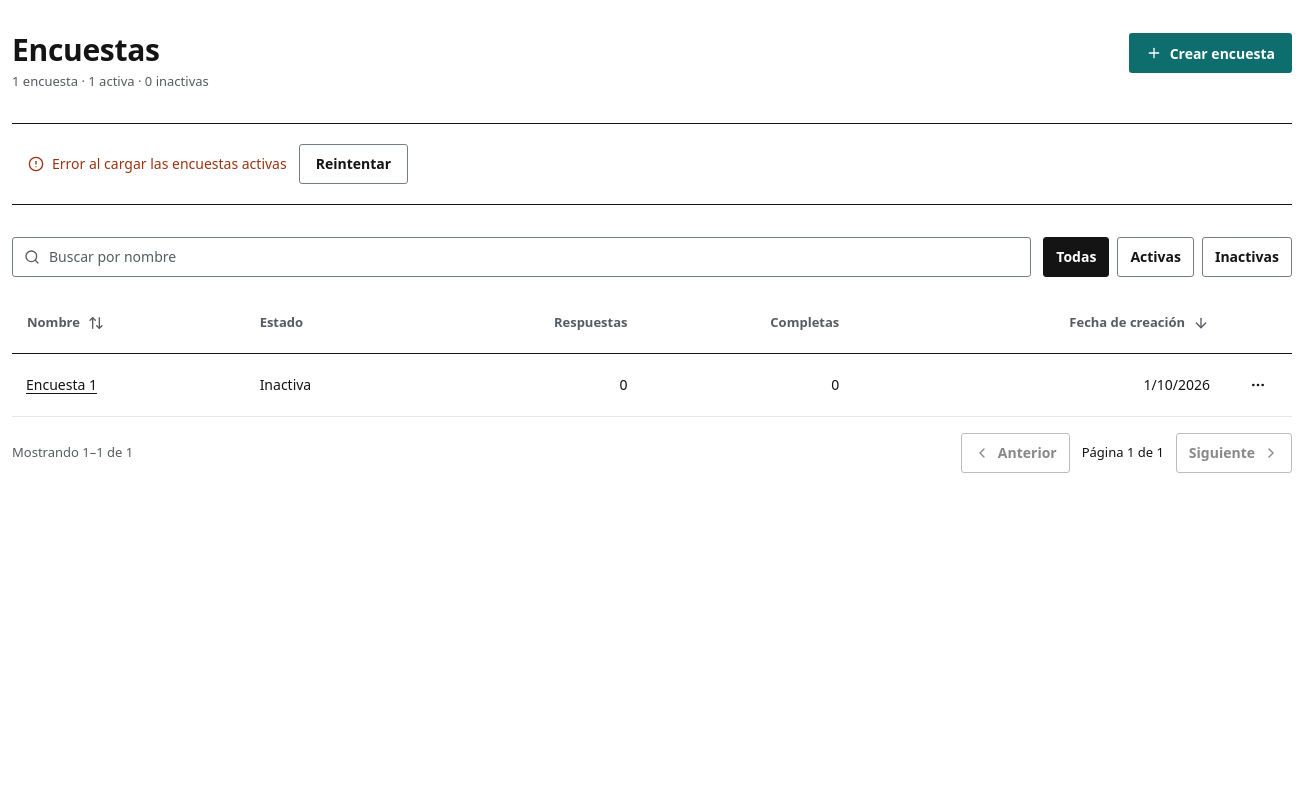
it: Active surveys small multiples on the dashboard (REQ-FE-032) › AC-FE-032-7: on error the row shows the error line with Reintentar and the list still renders
The width and height of the screenshot is (1304, 800).
Check: the link "Encuesta 1" is shown, box [26,375,97,394]
Click the button "Reintentar". click: (353, 164)
box: [299,144,408,184]
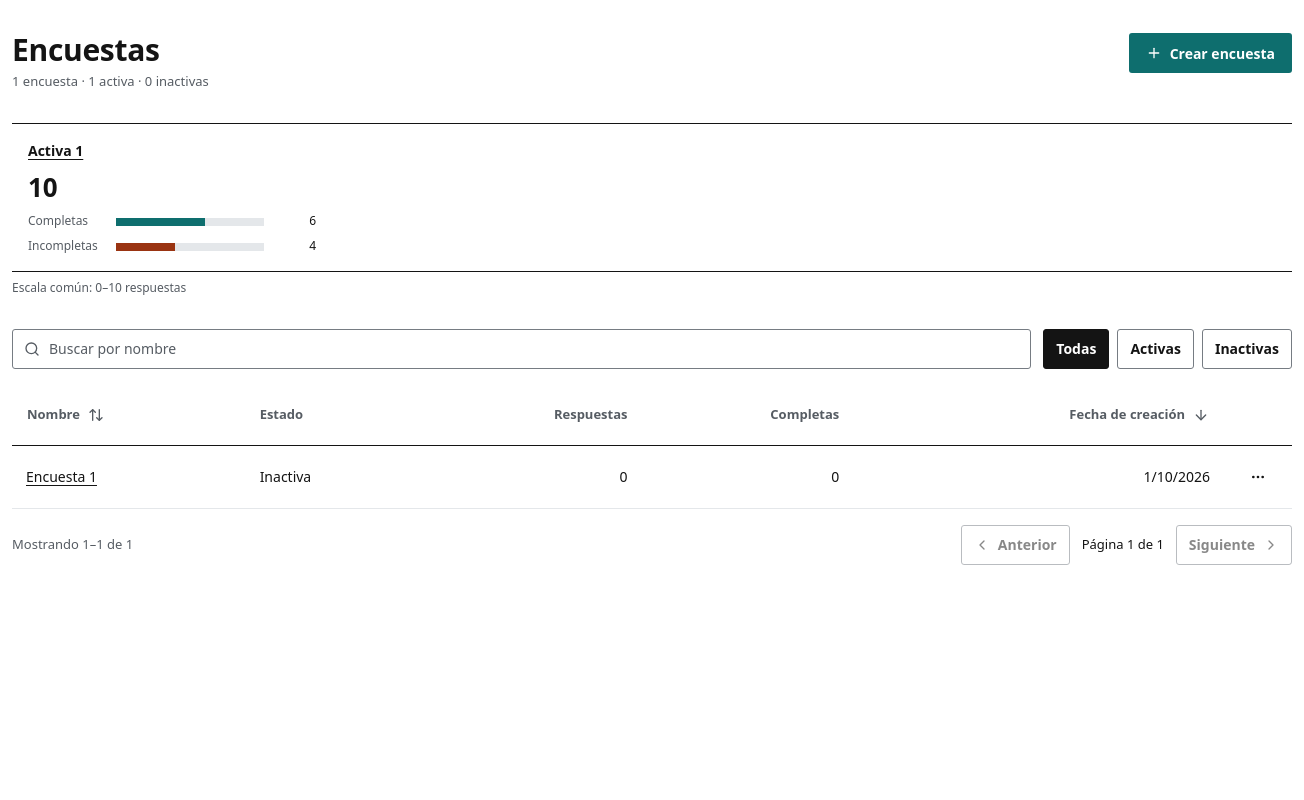
Check: the link "Activa 1" is shown, box [28,141,83,160]
